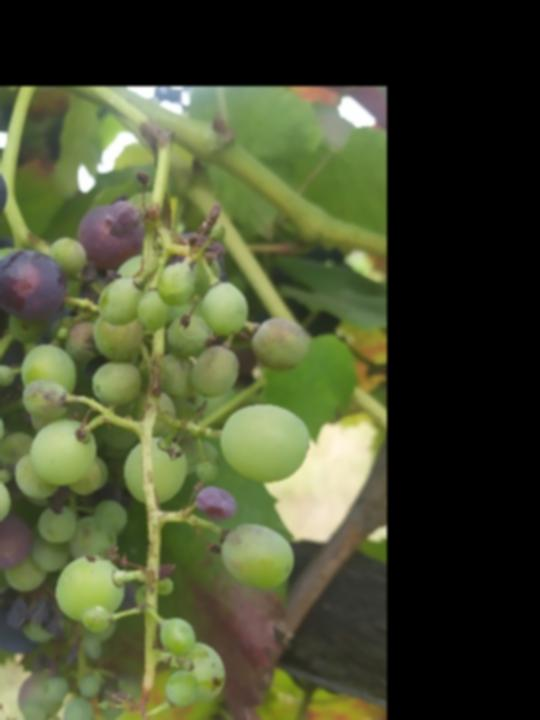grape: (0, 195, 317, 720)
